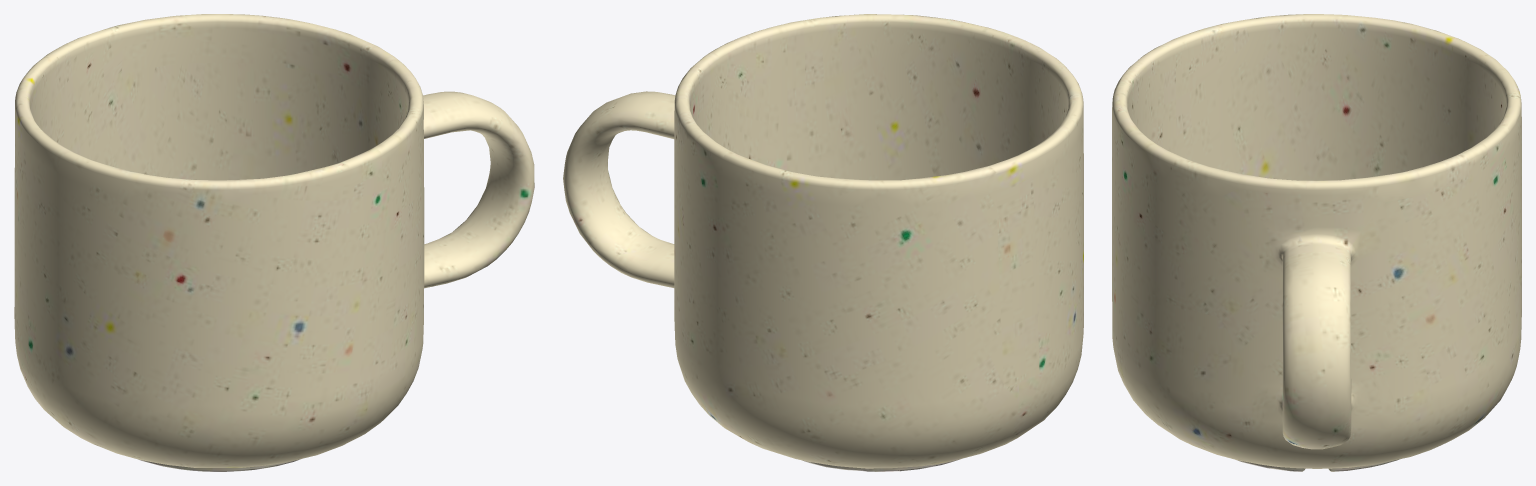
The model's file is tobisfisk_kubek_50603687.glb.
3 views of the same model, side by side, from view 1: azimuth 30°, elevation 25°; view 2: azimuth 150°, elevation 25°; view 3: azimuth 270°, elevation 25° (orthographic).
Parts seen in each view (by area): view 1: tobisfisk_kubek_50603687; view 2: tobisfisk_kubek_50603687; view 3: tobisfisk_kubek_50603687.
Part boxes in pixels (x1,y1,x2,y2): tobisfisk_kubek_50603687: [14, 14, 534, 471]; tobisfisk_kubek_50603687: [563, 14, 1083, 471]; tobisfisk_kubek_50603687: [1112, 14, 1521, 471].
Bounding box in the file's own units: 0.1394 × 0.088 × 0.1019.
2 materials, 2 textured.
